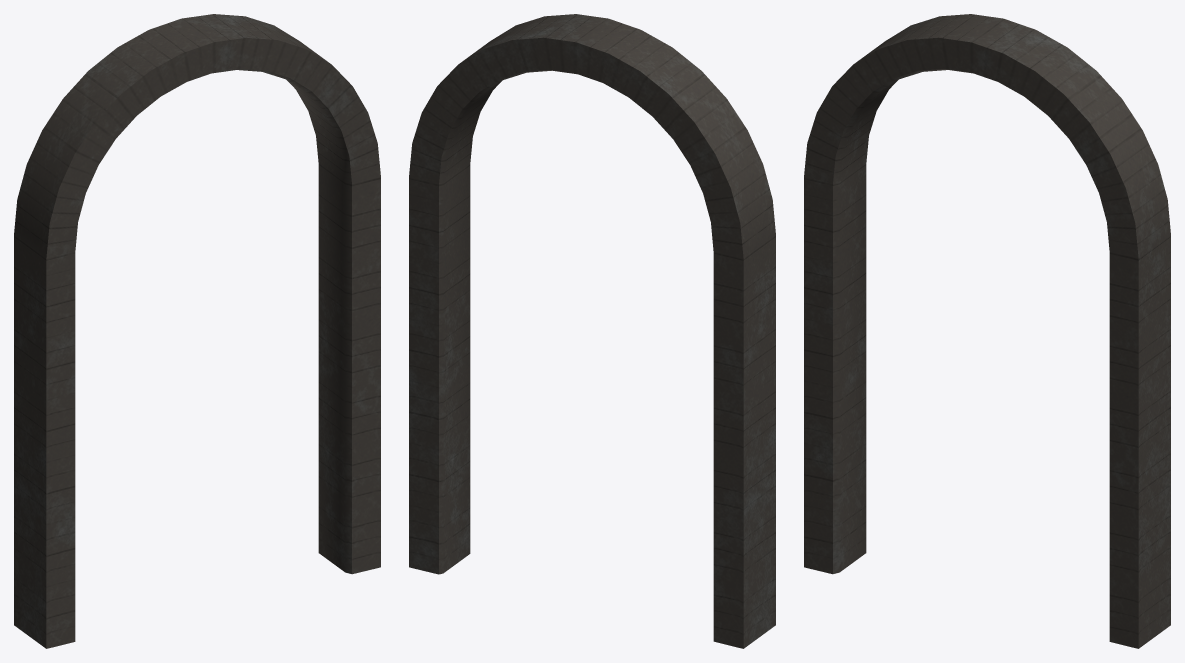
The model's file is dungeon_pillar_asset.glb.
3 views of the same model, side by side, from view 1: azimuth 30°, elevation 25°; view 2: azimuth 150°, elevation 25°; view 3: azimuth 330°, elevation 25° (orthographic).
Visible parts, largest first — view 1: Cube.017; view 2: Cube.017; view 3: Cube.017.
Part boxes in pixels (x1,y1,x2,y2): Cube.017: [14, 14, 380, 648]; Cube.017: [409, 14, 775, 648]; Cube.017: [804, 14, 1170, 648].
Size of the model in its own units: 10.07 by 16.28 by 1.69.
1 material, 1 textured.
